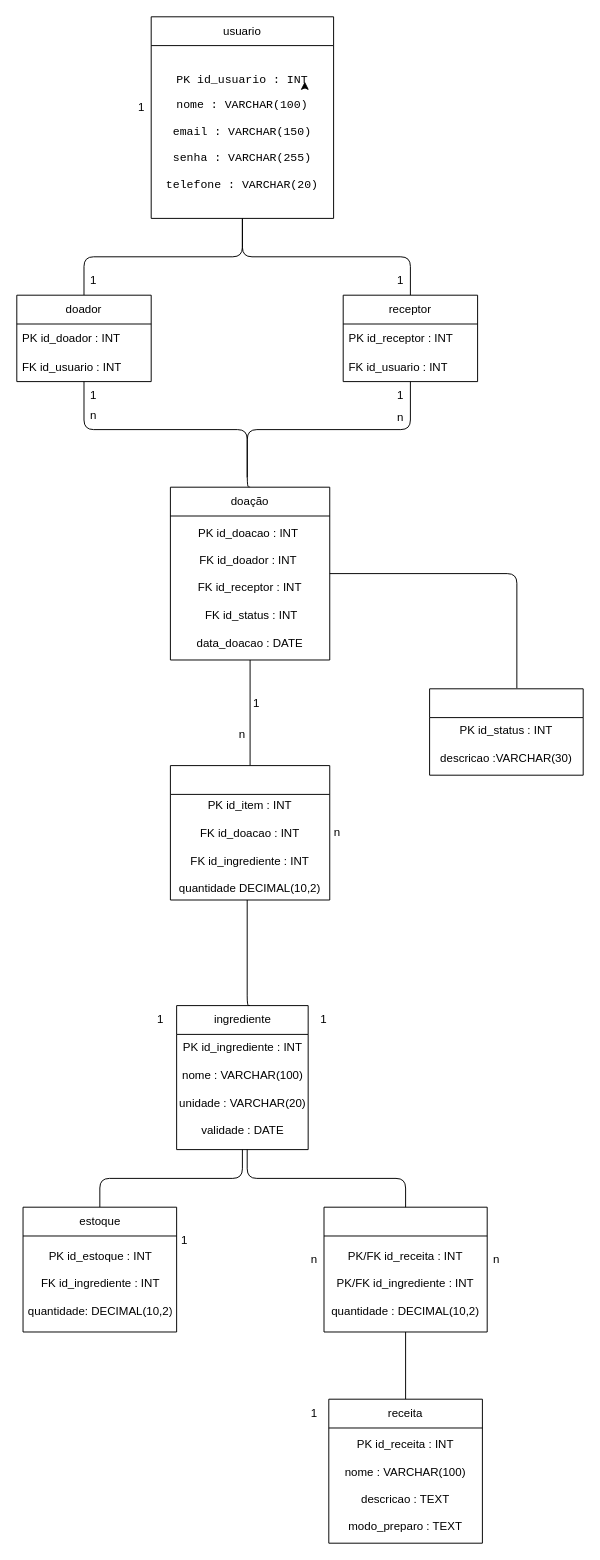
Image size: 600x1560. Some labels were removed from this diagram. The box of each missing label's shape, as (x1, y1, x2, y2) in pixels:
item_doação: (169, 765, 330, 900)
receita_ingrediente: (323, 1206, 487, 1332)
status_doação: (429, 688, 583, 775)
